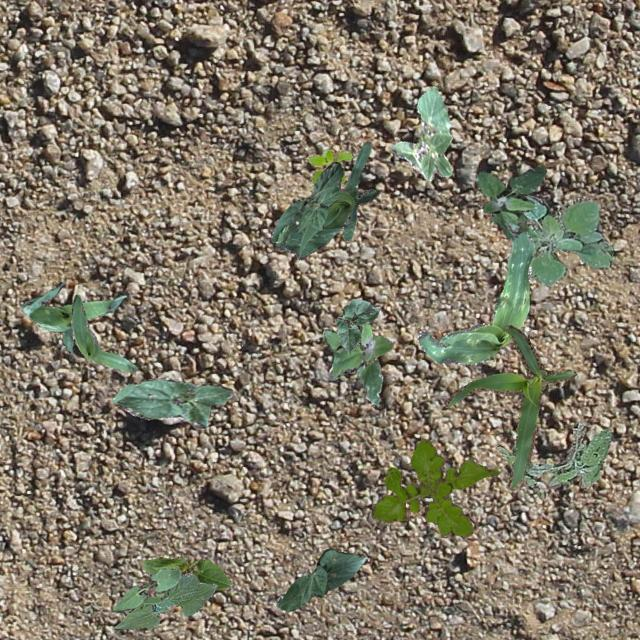crop: (444, 324, 576, 488), (416, 230, 534, 364), (274, 140, 376, 258), (20, 280, 124, 354), (110, 376, 232, 428), (388, 84, 452, 180), (114, 572, 216, 630), (270, 160, 342, 242), (276, 548, 366, 610), (70, 294, 136, 372), (140, 556, 230, 596), (112, 568, 180, 612), (334, 298, 380, 352)
weed: (371, 436, 498, 536), (494, 420, 612, 492), (522, 194, 612, 286), (322, 322, 392, 404), (474, 163, 546, 240), (306, 148, 352, 182)
